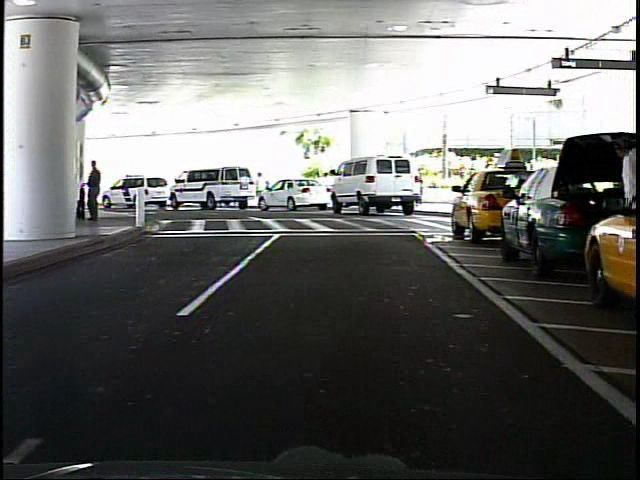person: (595, 132, 639, 284), (88, 157, 107, 223), (253, 170, 269, 206)
